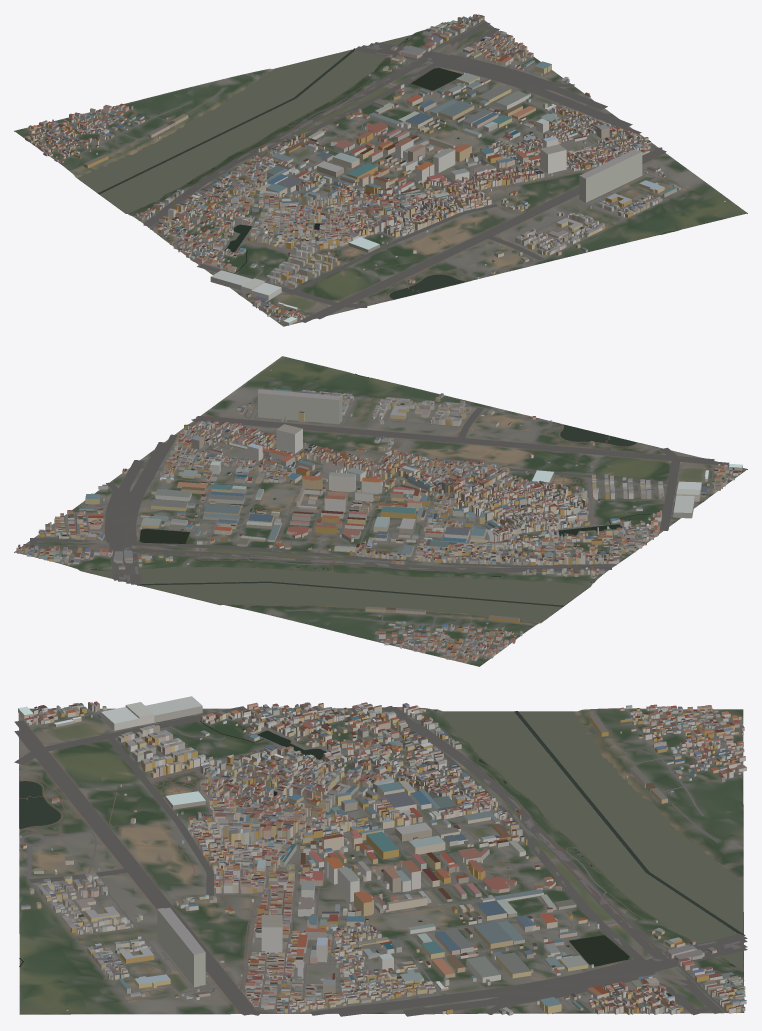
3 views of the same model, one above another, from view 1: azimuth 30°, elevation 25°; view 2: azimuth 150°, elevation 25°; view 3: azimuth 270°, elevation 25° (orthographic). The views are drawn at different scales.
Visible parts, largest first — view 1: buildings, ground, roads, water; view 2: ground, buildings, roads, water; view 3: buildings, ground, roads, water.
Boxes of the visible parts, x1,y1,x2,y2 form: buildings: [25, 14, 725, 325]; ground: [14, 20, 747, 326]; roads: [41, 20, 704, 324]; water: [77, 35, 675, 299]; ground: [14, 356, 747, 666]; buildings: [16, 369, 742, 662]; roads: [22, 387, 741, 660]; water: [83, 373, 704, 621]; buildings: [18, 696, 746, 1015]; ground: [18, 707, 744, 1014]; roads: [14, 706, 747, 1016]; water: [19, 710, 745, 1010].
Size of the model in its own units: 1438 by 79.02 by 1420.
